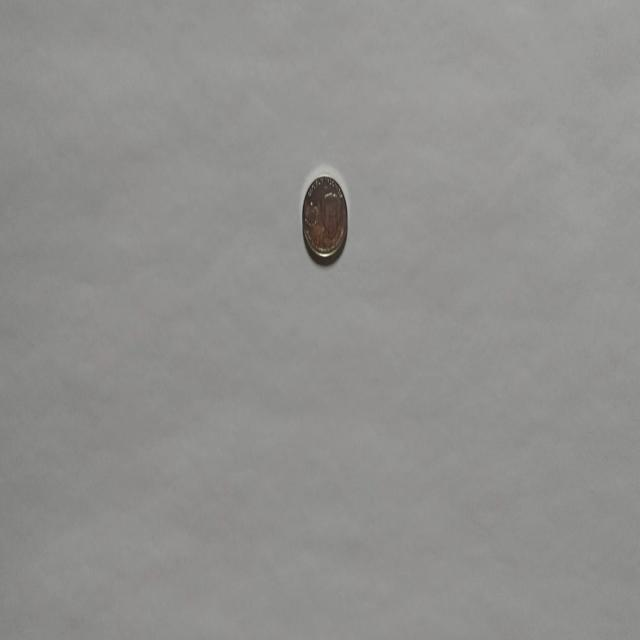seratus rupiah: (301, 174, 348, 262)
